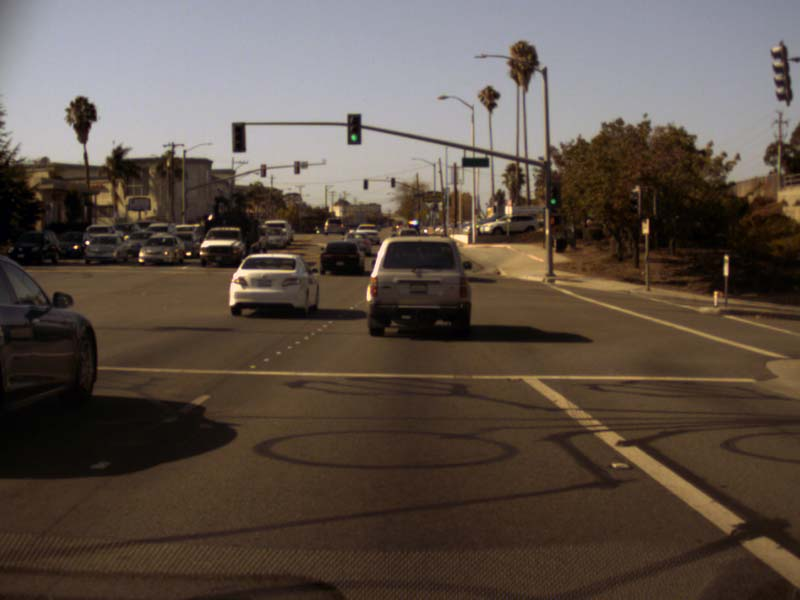Green: (346, 113, 361, 144), (545, 181, 560, 209)
